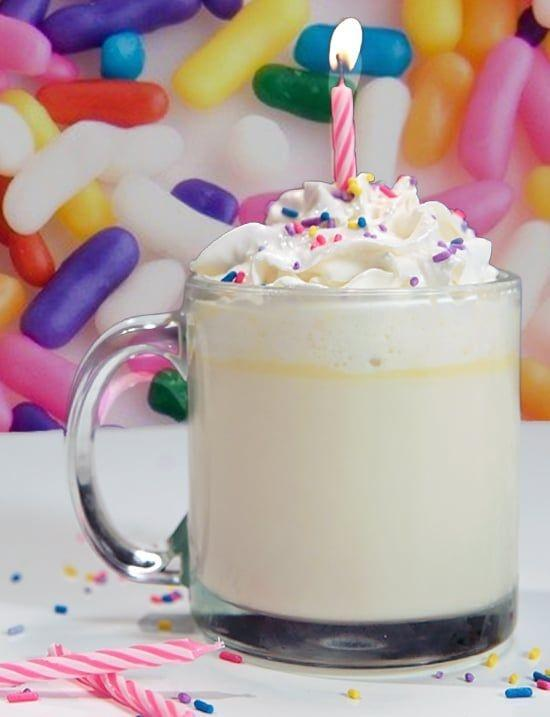glass-mug: (59, 216, 530, 675)
